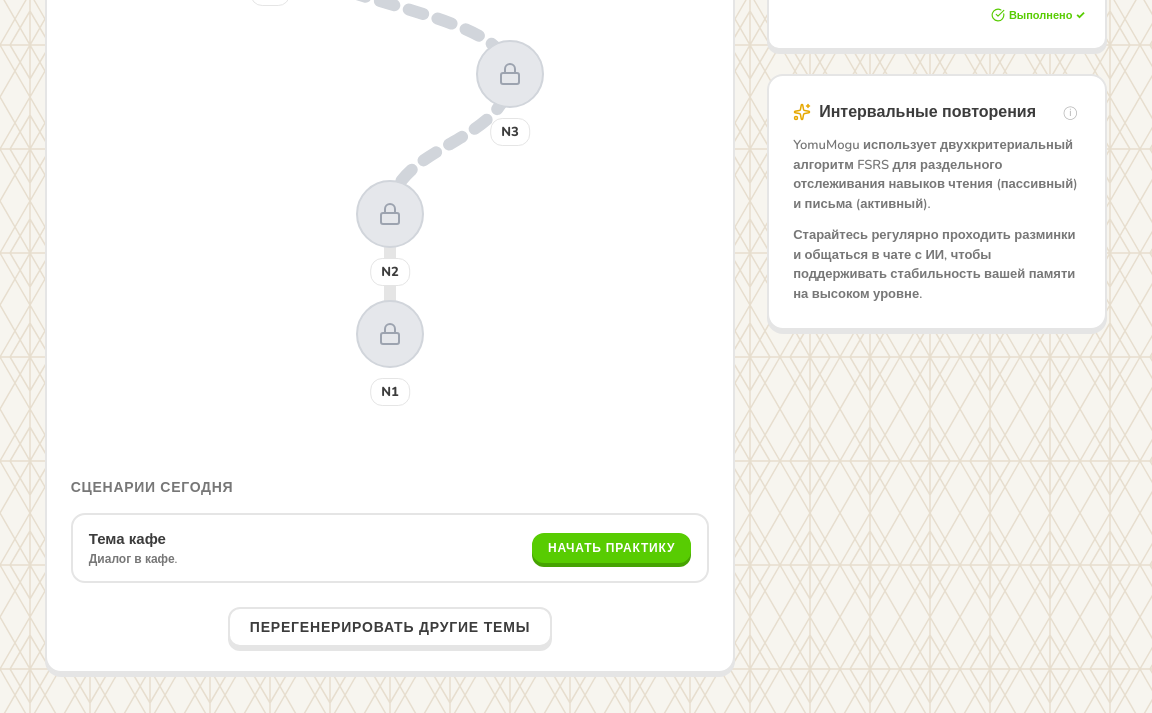
Scenario: PracticePage Component › отображает кнопку "Продолжить" вместо "Начать практику", если сессия уже начата
This screenshot has width=1152, height=713.
(page scrolled)
Expected: the text "Тема кафе" is shown, [89,529,166,549]
Note: Кликаем по узлу, чтобы открыть popover
Click the element titled "Тема кафе" at [390, 548], box [71,513,709,583]
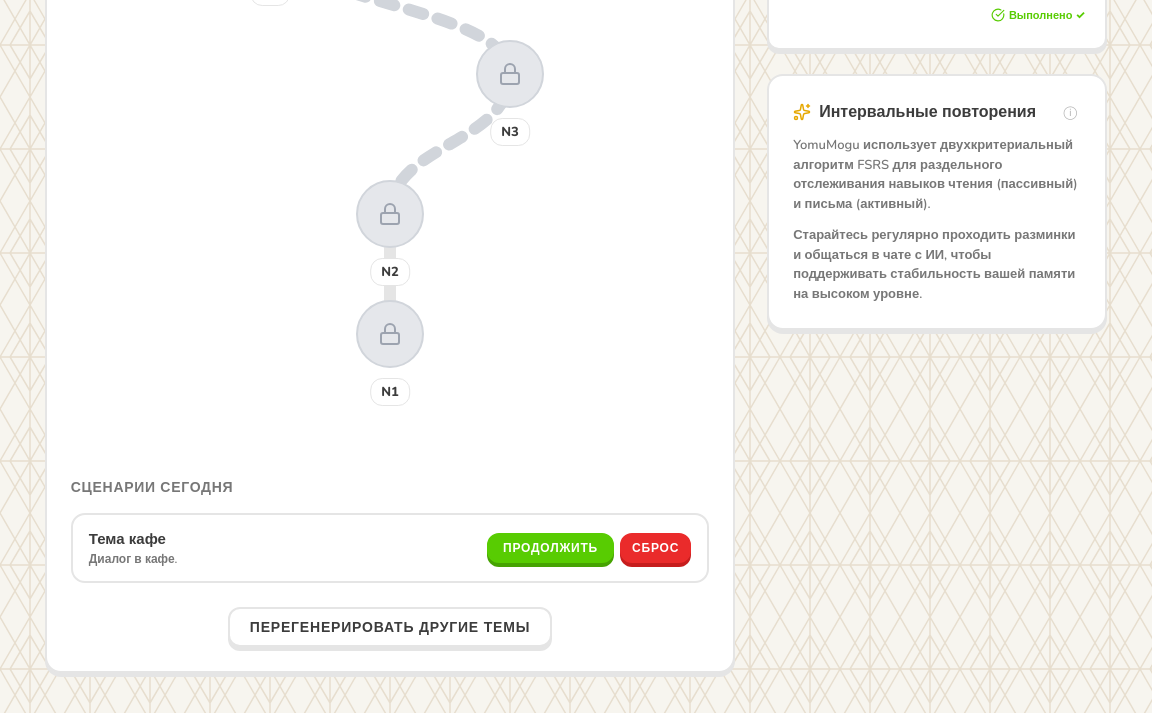
Expected: the button "Продолжить" is shown, [487,533,614,563]
Expected: the button "Сброс" is shown, [620,533,691,563]
